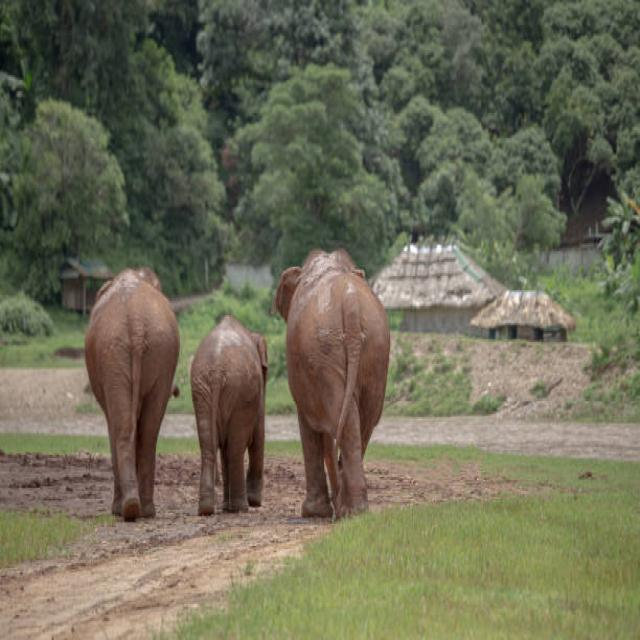Elephant: (272, 238, 405, 527), (77, 262, 181, 514), (191, 306, 272, 534)
